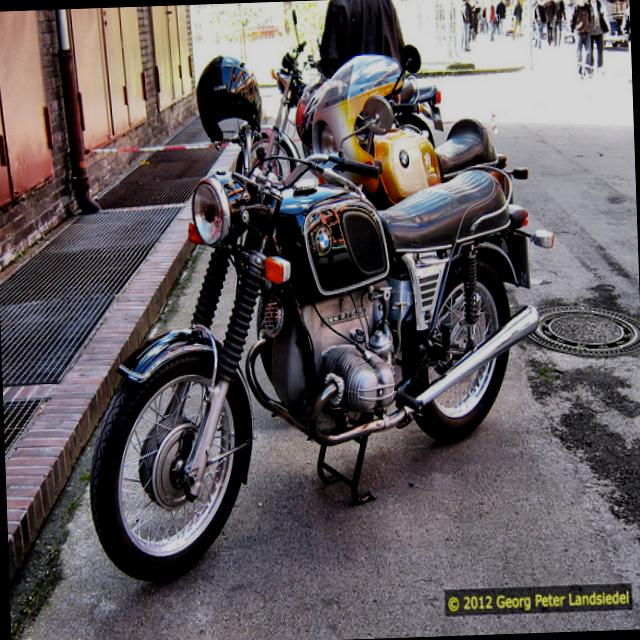Vehicle: (74, 43, 568, 596), (314, 78, 490, 202), (595, 0, 630, 47)
